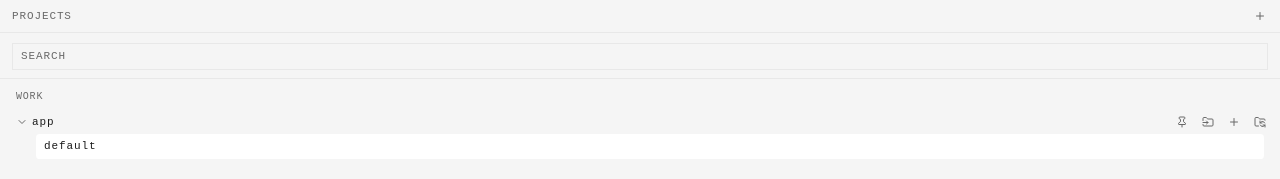
Test: ProjectLeftPanel › renames a trunk from the context menu
Right-click the button "default" at (70, 146), box [36,134,1264,158]
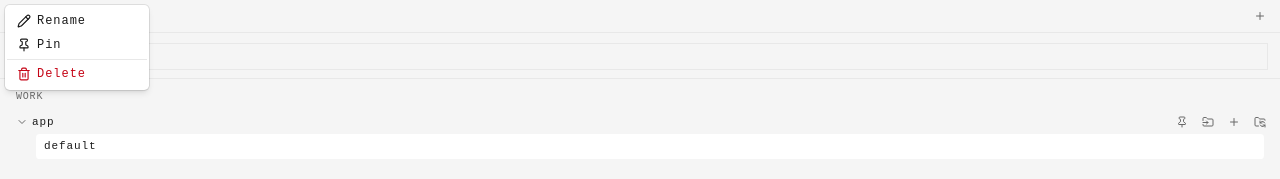
Click the menu item "Rename" at (52, 21), box [17,14,86,28]
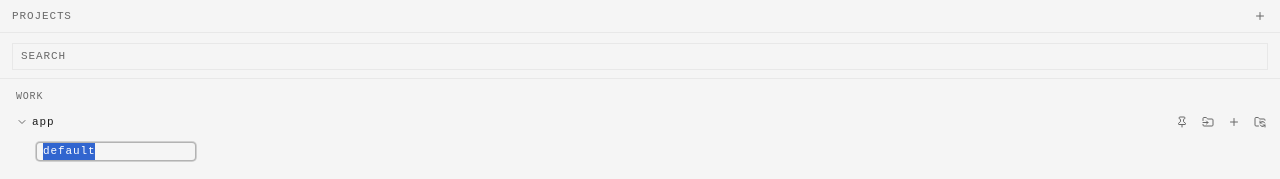
Replace the text in the field named "Rename trunk" with "Renamed" at (116, 151), box [36,142,196,160]
Then press Enter
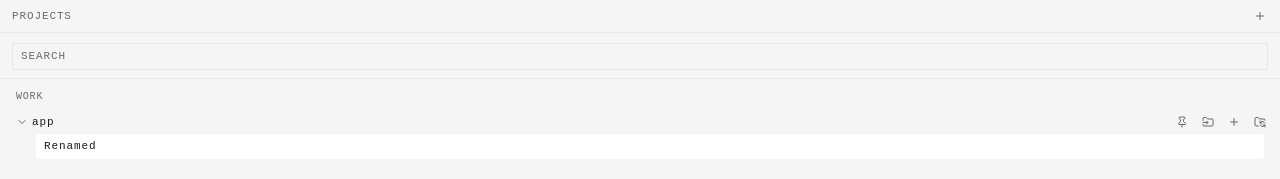
expect the button "Renamed" is shown: met, box [36,134,1264,158]
